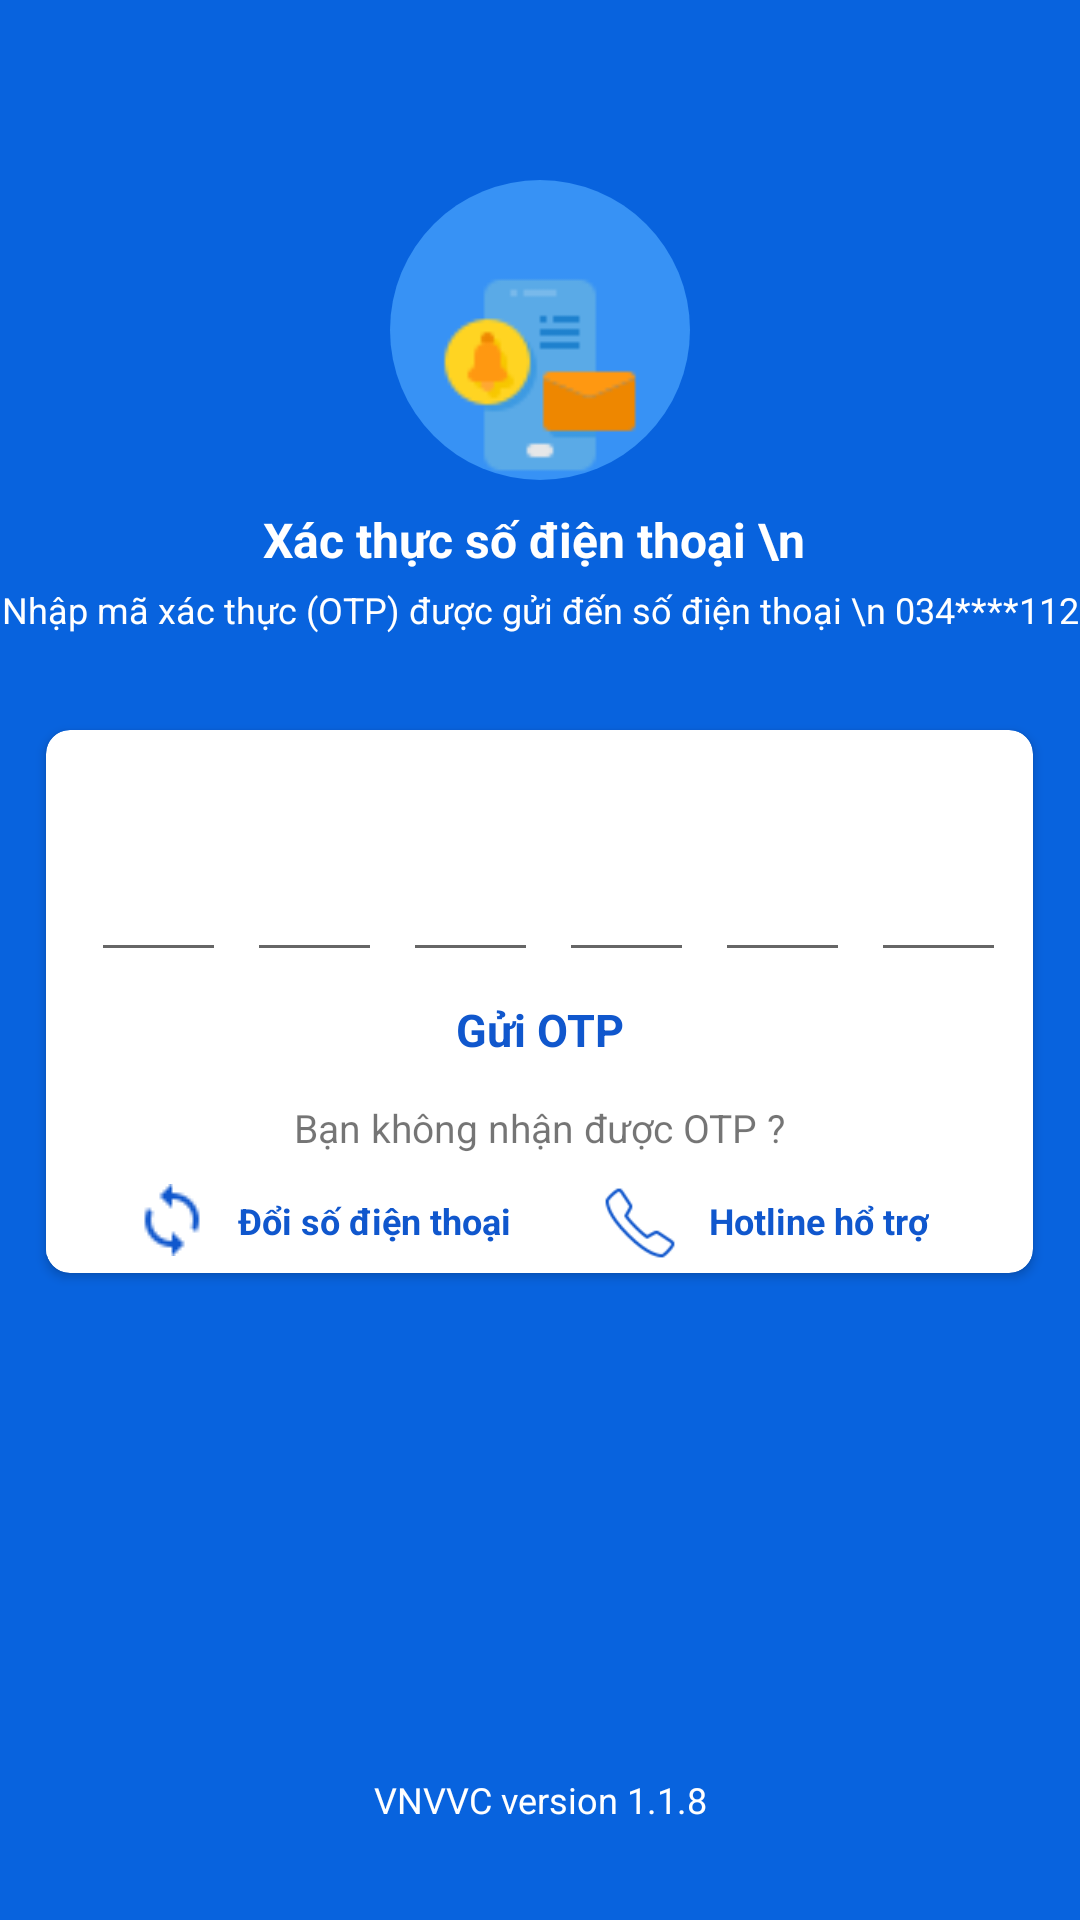

Icons on this 1080px×1920px Android screen, each with its box as (x1, y1, x2, y2):
phone: (605, 1188, 675, 1258)
sync: (144, 1184, 200, 1256)
